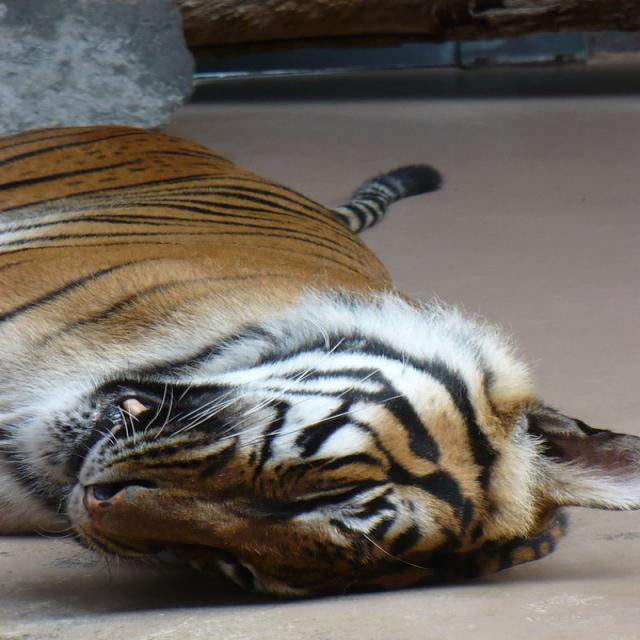Tiger: (0, 123, 635, 597)
